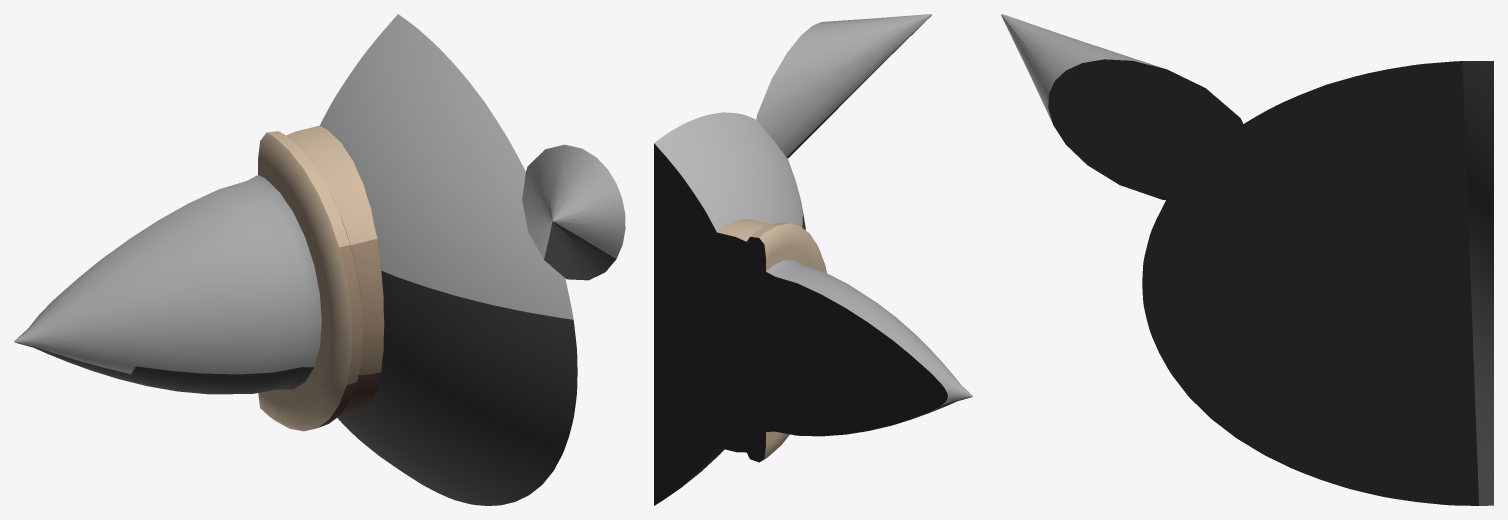
Rendered from mace_bl.glb.
3 renders of one model, left to right at view 1: azimuth 30°, elevation 25°; view 2: azimuth 150°, elevation 25°; view 3: azimuth 270°, elevation 25°, orthographic. The views are drawn at different scales.
Visible parts, largest first — view 1: ball.001, spike2.001, collar2.001, short2.001; view 2: ball.001, spike2.001, collar2.001, short2.001; view 3: ball.001, short2.001.
Boxes of the visible parts, x1,y1,x2,y2 form: ball.001: (320,14,577,505); spike2.001: (14,175,321,394); collar2.001: (258,125,384,431); short2.001: (522,144,625,280); ball.001: (654,112,805,505); spike2.001: (664,237,972,438); collar2.001: (672,219,826,462); short2.001: (756,14,931,158); ball.001: (1142,61,1493,505); short2.001: (1001,14,1257,201).
Size of the model in its own units: 15 by 16.72 by 16.72.
